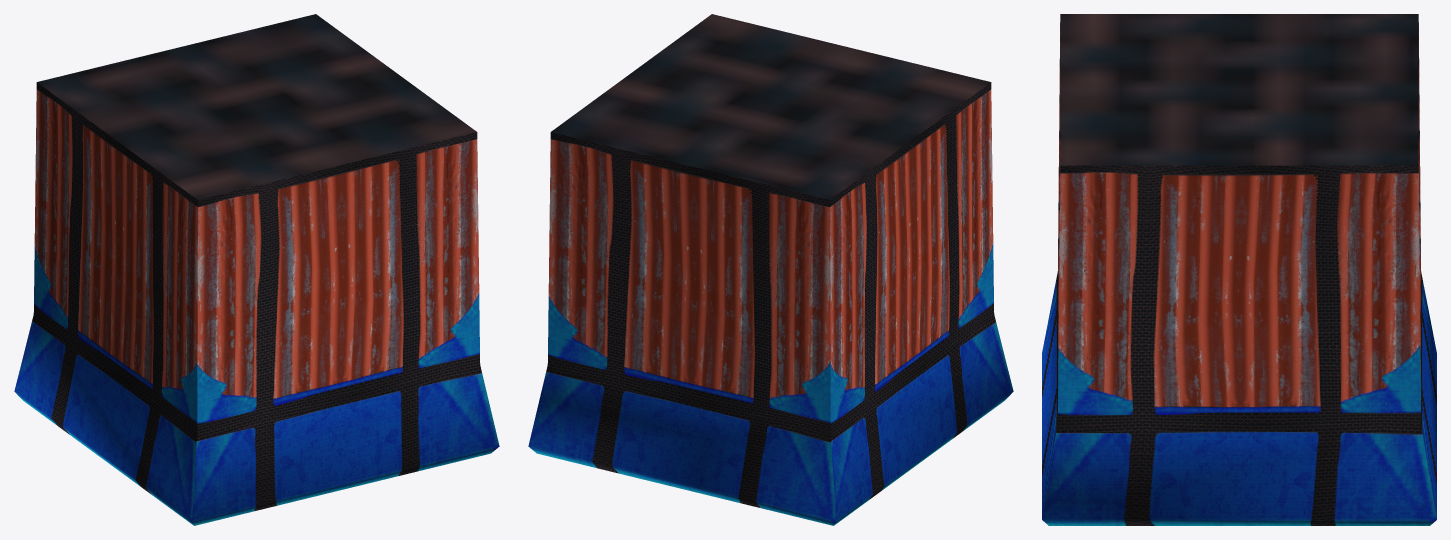
The model's file is PubgBox.obj.
The picture shows the model from 3 angles, left to right: view 1: azimuth 30°, elevation 25°; view 2: azimuth 150°, elevation 25°; view 3: azimuth 270°, elevation 25°; orthographic projection. The views are drawn at different scales.
Parts seen in each view (by area): view 1: Box001; view 2: Box001; view 3: Box001.
Part boxes in pixels (x1,y1,x2,y2): Box001: [14, 14, 499, 525]; Box001: [528, 14, 1013, 525]; Box001: [1042, 14, 1436, 525].
Size of the model in its own units: 50 by 49.69 by 50.
1 material, 1 textured.
